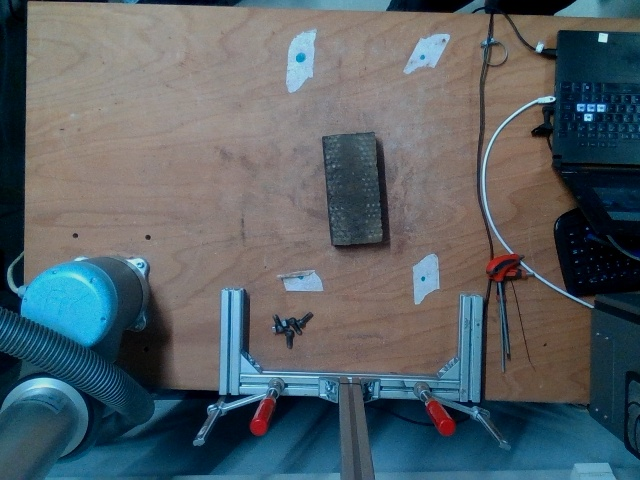brick: (322, 129, 387, 248)
